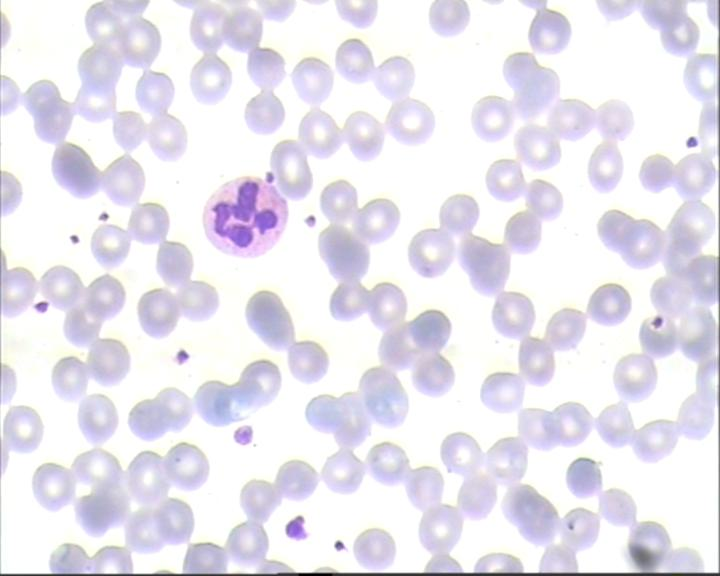neut: (197, 171, 289, 258)
